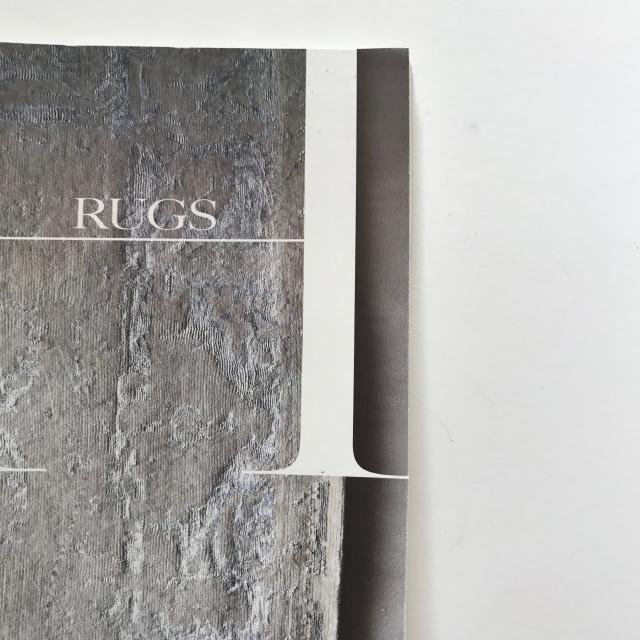paper: (0, 30, 417, 640)
